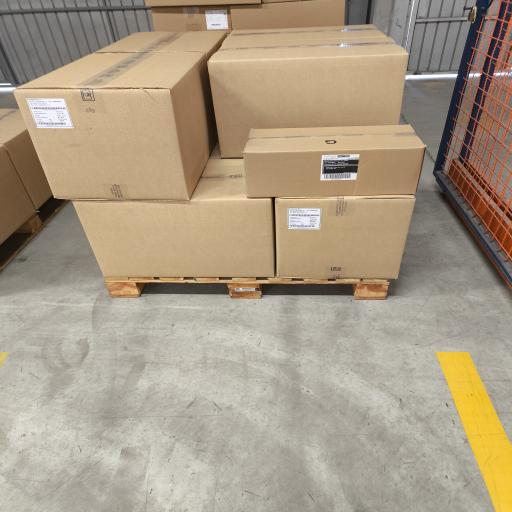pallet: (105, 278, 389, 299), (0, 198, 67, 271)
